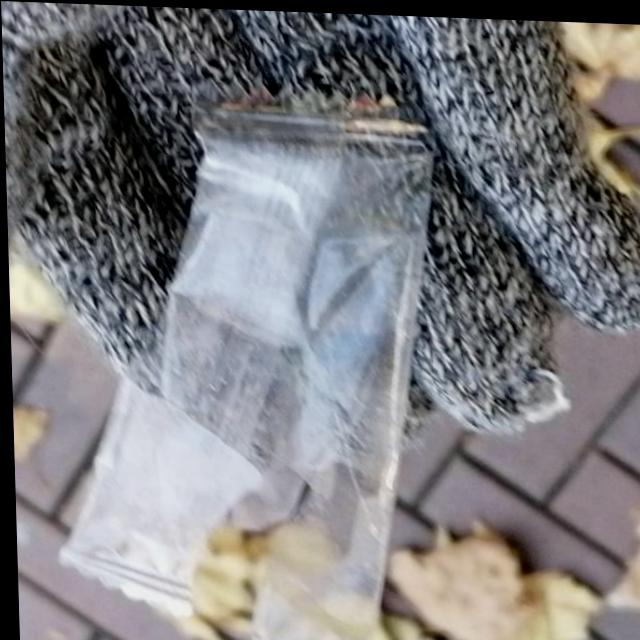Plastic: (39, 73, 454, 640)
